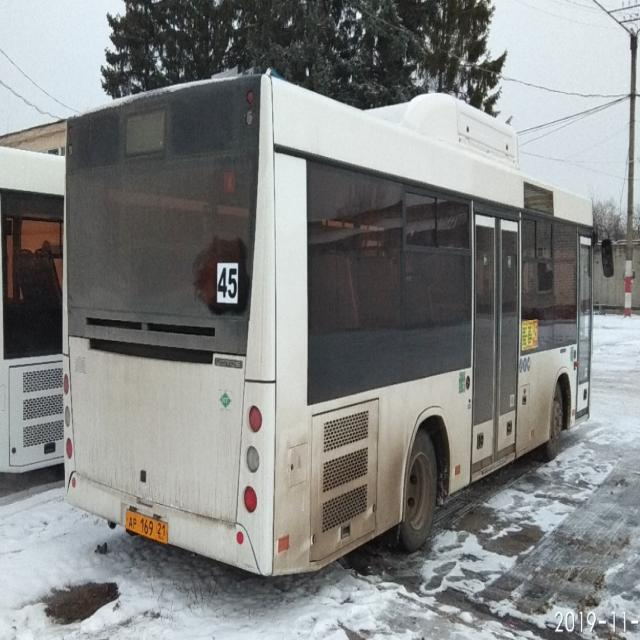number-of-bus: (215, 263, 244, 308)
